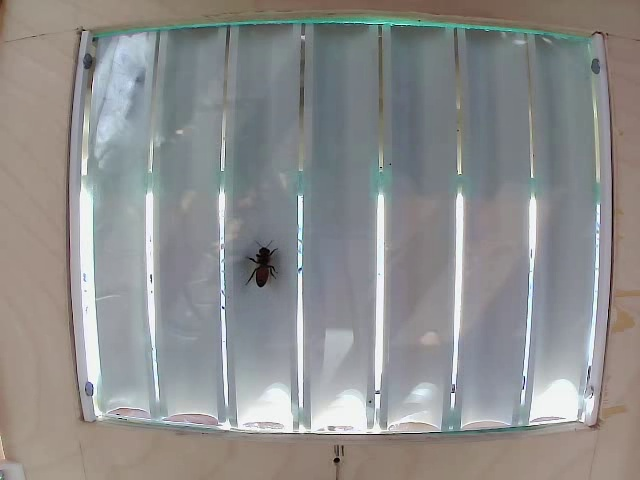bee: (246, 242, 284, 287)
